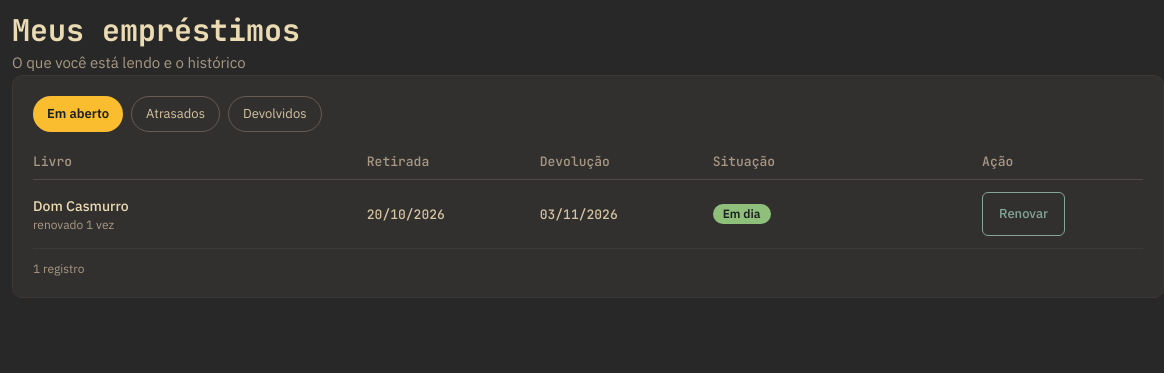
Test: meus empréstimos › mostra a recusa da renovação com o motivo da API
Click the button with aria-label "Renovar Dom Casmurro" at (1024, 214), box [982,192,1065,236]
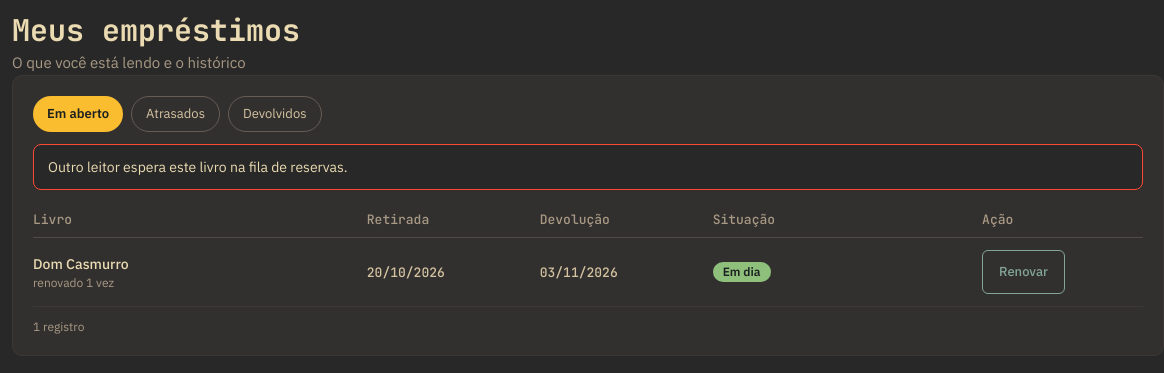
Result: the text "Outro leitor espera este livro na fila de reservas." is shown at [48,156,348,176]
